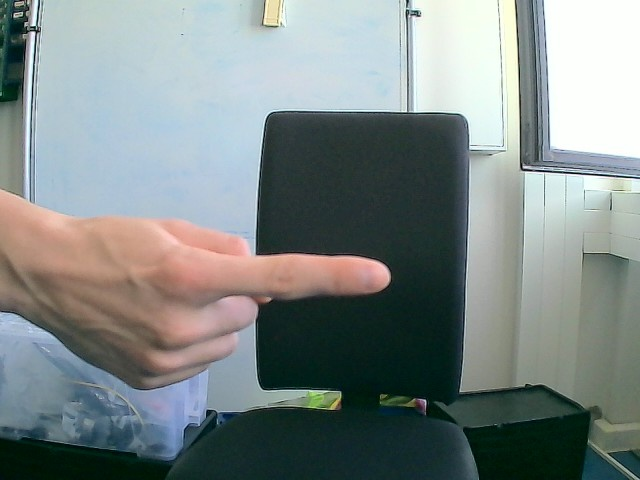left: (1, 188, 393, 392)
